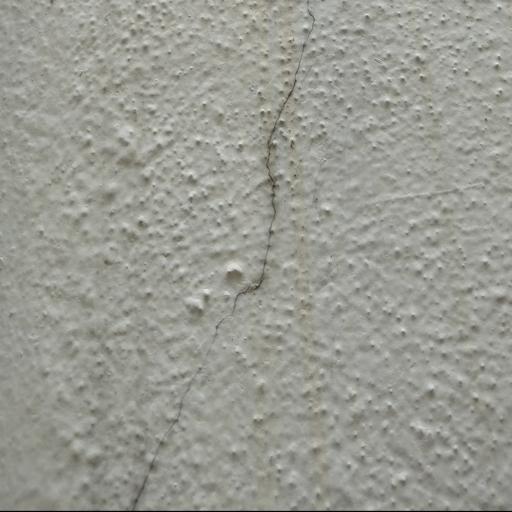minor_crack: (126, 0, 320, 512)
